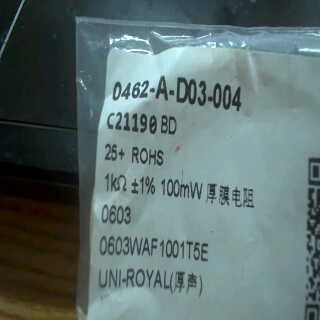1kR: (100, 170, 130, 195)
